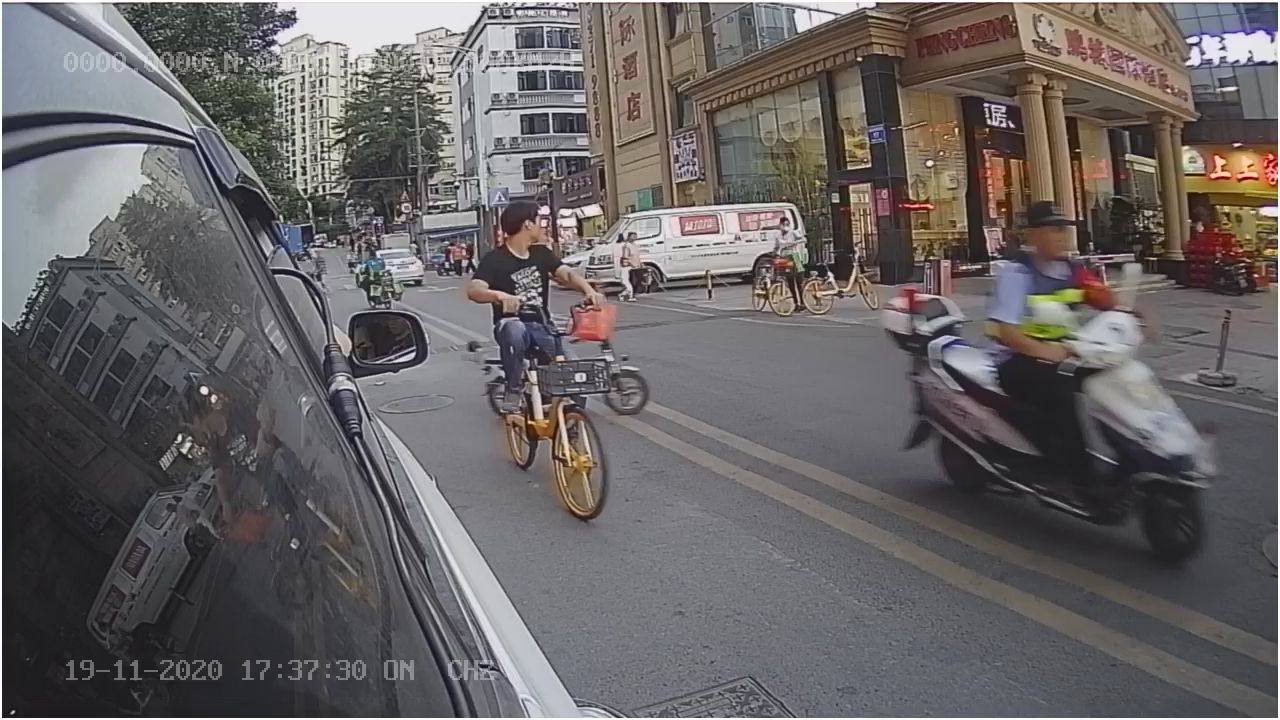person: (469, 204, 583, 315)
